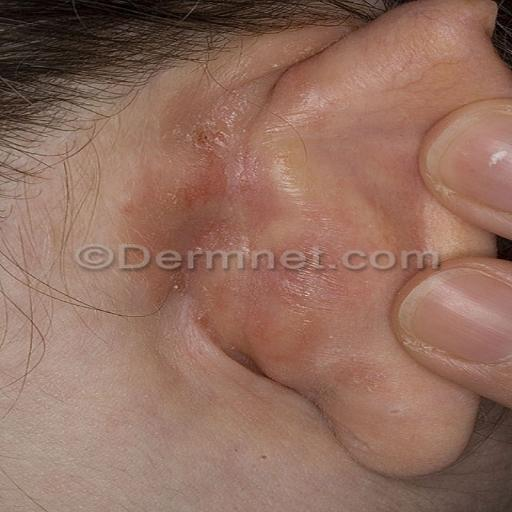Skin_Lesion: (186, 122, 238, 168)
